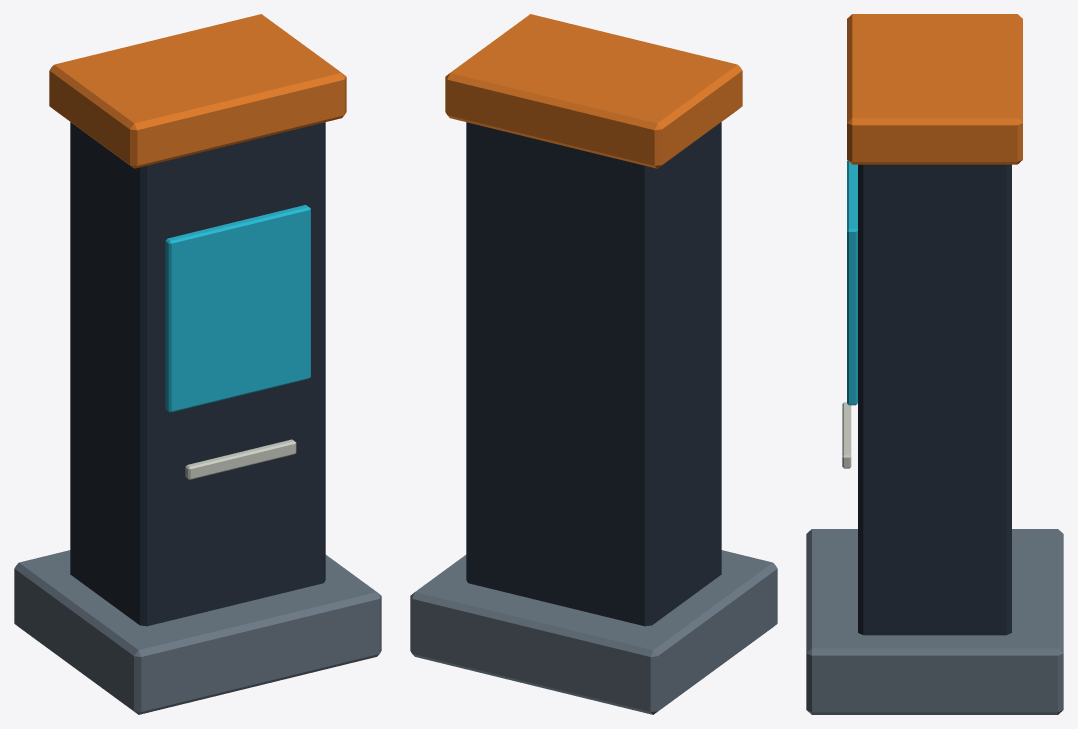
File: kiosk.glb
The picture shows the model from 3 angles, left to right: view 1: azimuth 30°, elevation 25°; view 2: azimuth 150°, elevation 25°; view 3: azimuth 270°, elevation 25°; orthographic projection. The views are drawn at different scales.
Visible parts, largest first — view 1: kiosk_Body; view 2: kiosk_Body; view 3: kiosk_Body.
Boxes of the visible parts, x1,y1,x2,y2 form: kiosk_Body: [14, 14, 381, 714]; kiosk_Body: [410, 14, 777, 714]; kiosk_Body: [806, 14, 1063, 714].
Bounding box in the file's own units: 0.8 × 1.77 × 0.7.
